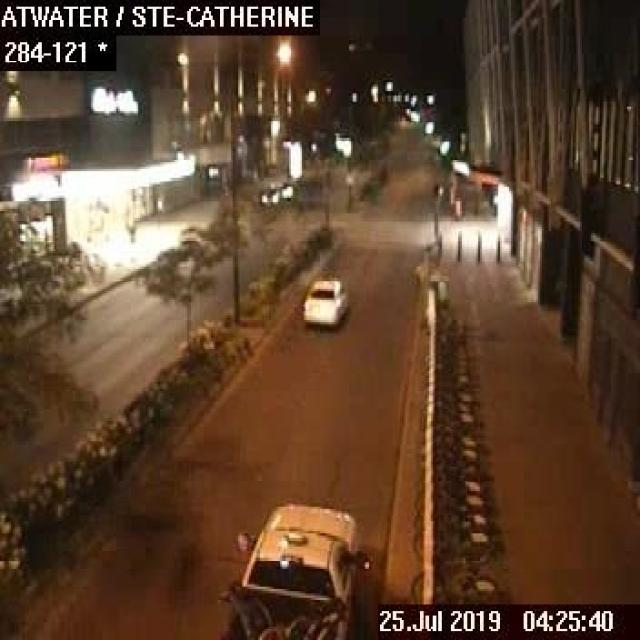vehicle: (216, 498, 373, 638), (300, 273, 349, 327), (258, 182, 280, 205)
